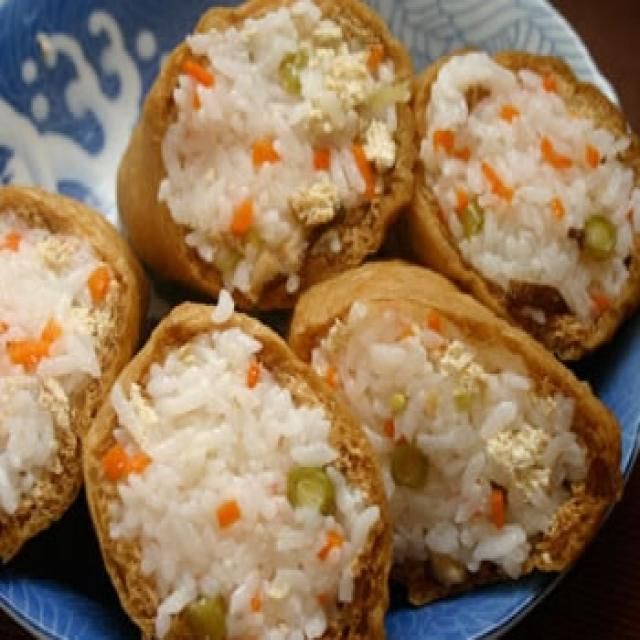寿司卷物: (8, 7, 616, 626)
